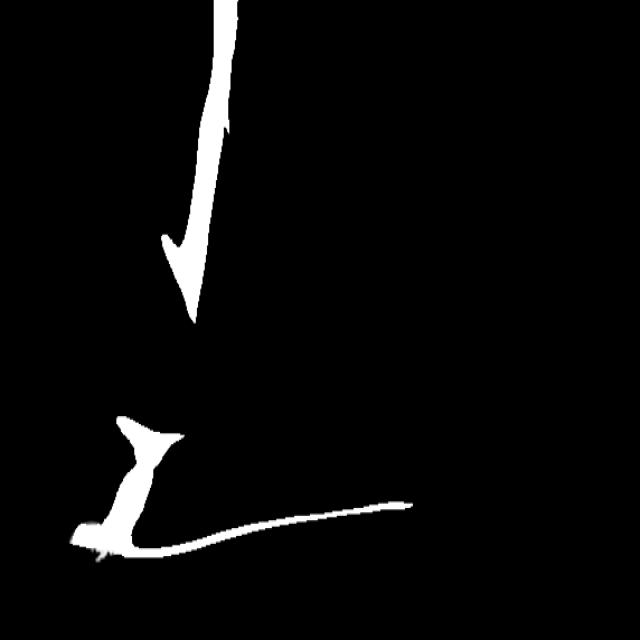sup_pli: (90, 546, 110, 568)
